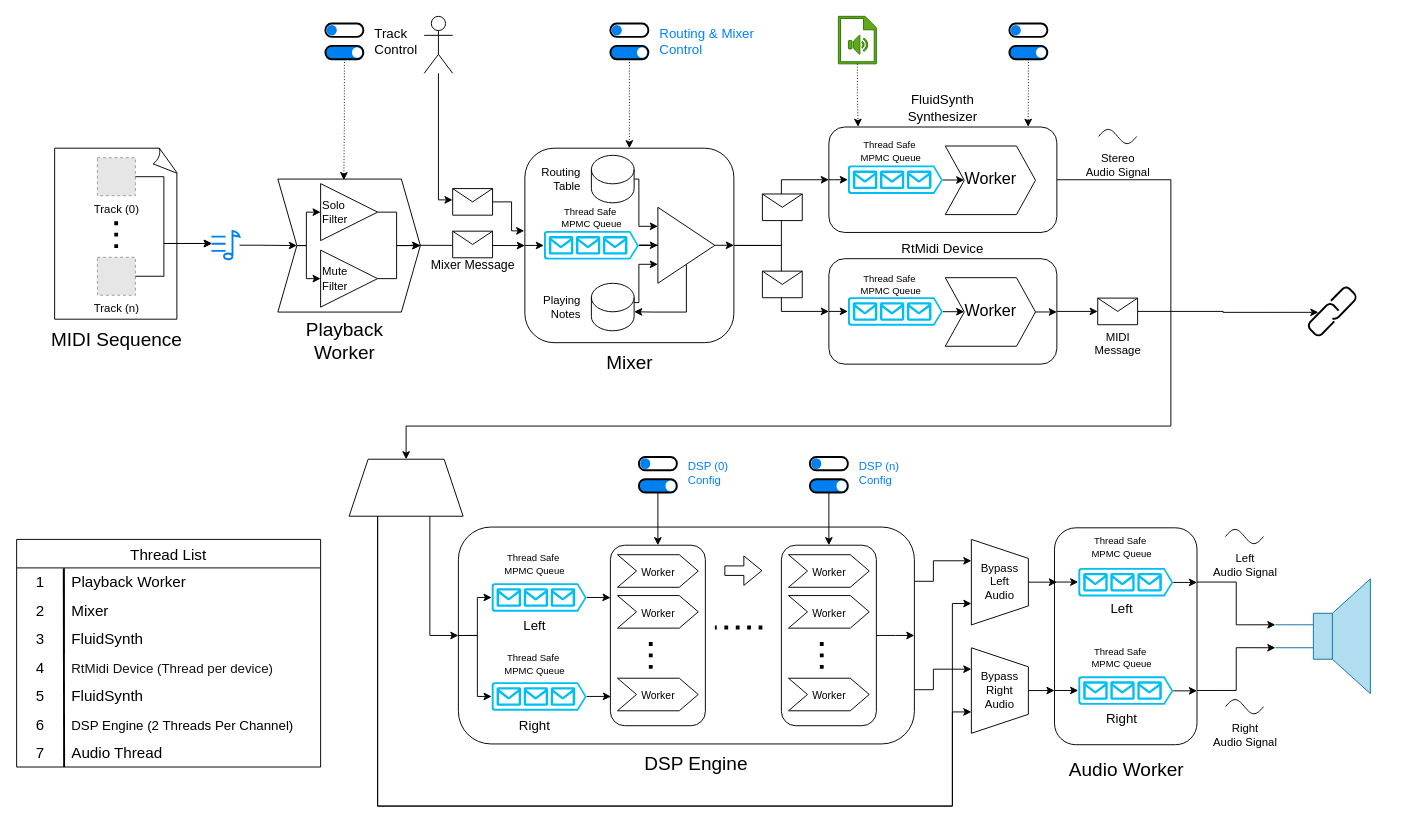
Some shapes in this 1401 by 831 pixel diagram are drawn without their labels. Grey dashed boxes stand in for pictures. Here are the shapes that lost their labels. From the top down, the centre of each, then its label:
At (x=438, y=44): "GUI Thread".
At (x=856, y=39): "Sound Font".
At (x=1028, y=41): "Settings".
At (x=225, y=245): "Note".
At (x=686, y=244): "Note Driver".
At (x=1332, y=311): "MIDI Physical Synthesizer".
At (x=405, y=487): "Bypass".
At (x=1322, y=636): "Audio Output".
